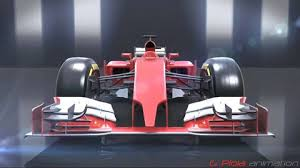f1_car: (15, 30, 281, 146)
